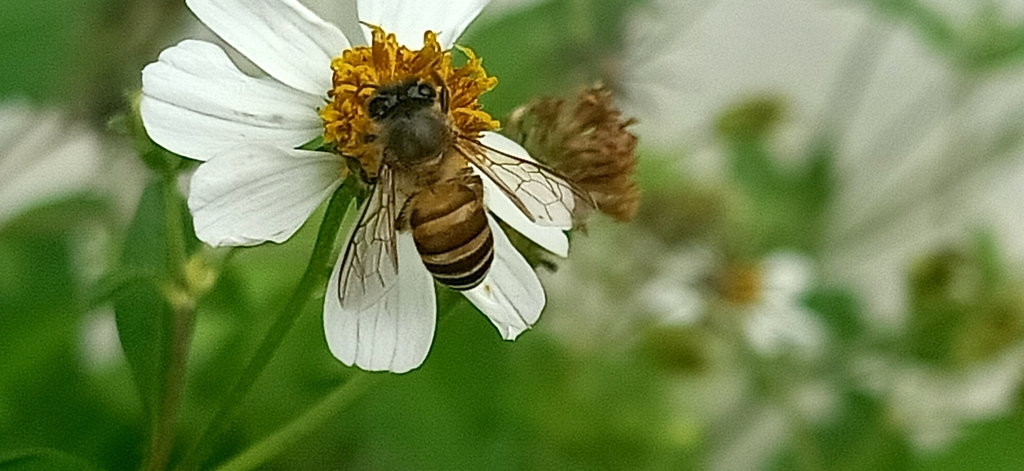honeybee: (338, 71, 597, 315)
